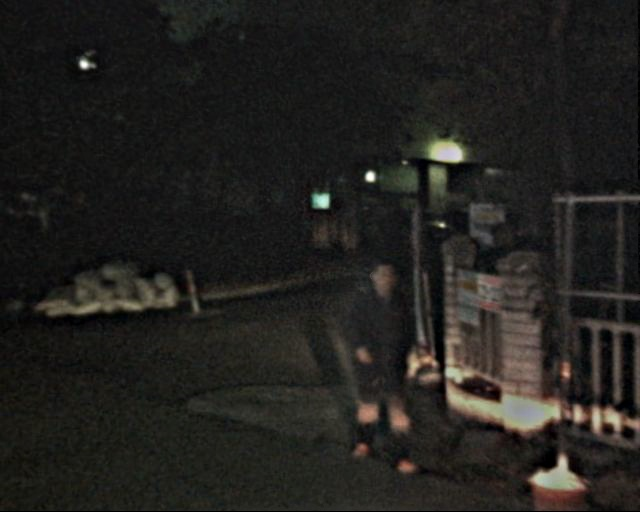person: (333, 252, 422, 468)
